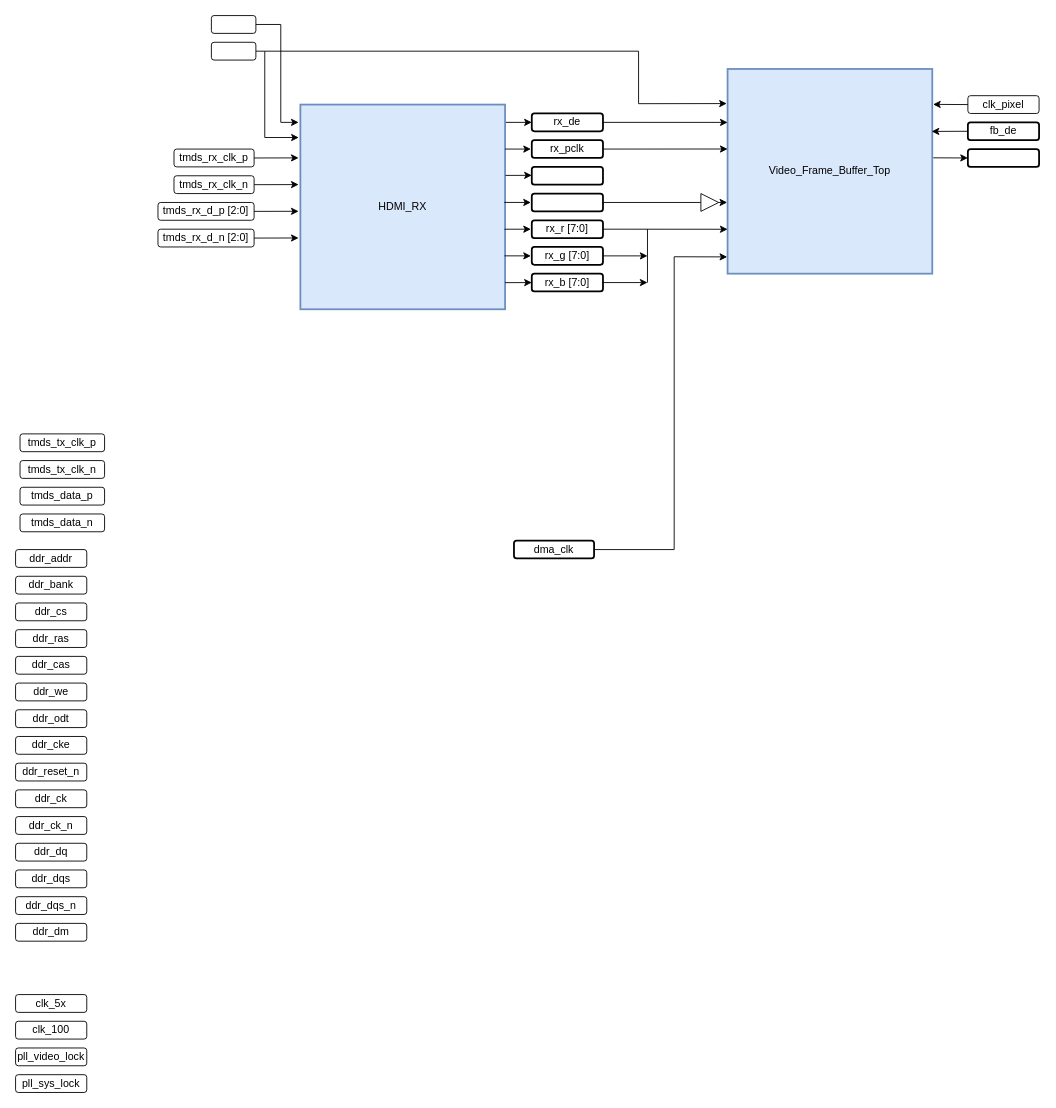
This 1056x1108 diagram has some shape labels left out. The centre of each missing label's shape, as x and y in pixels:
"clk" goes at pixel 233 24.
"read_data" goes at pixel 1003 157.
"rst_n" goes at pixel 233 50.
"rx_hsync" goes at pixel 566 175.
"rx_vsync" goes at pixel 566 202.
